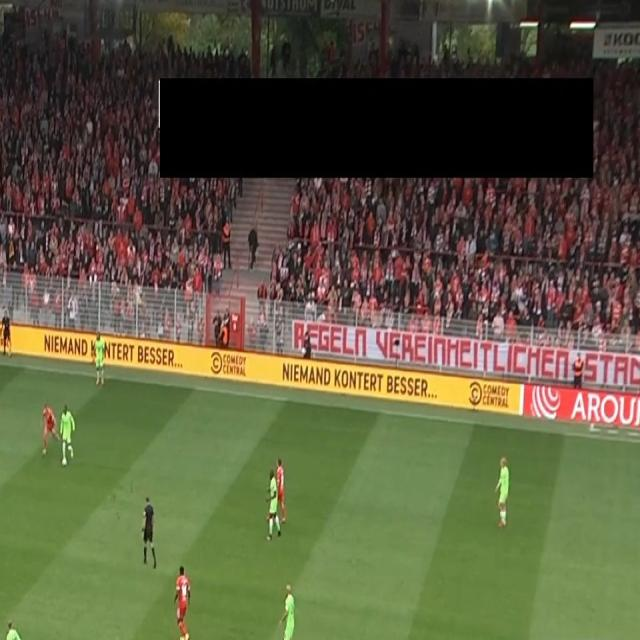ball: (60, 455, 68, 469)
